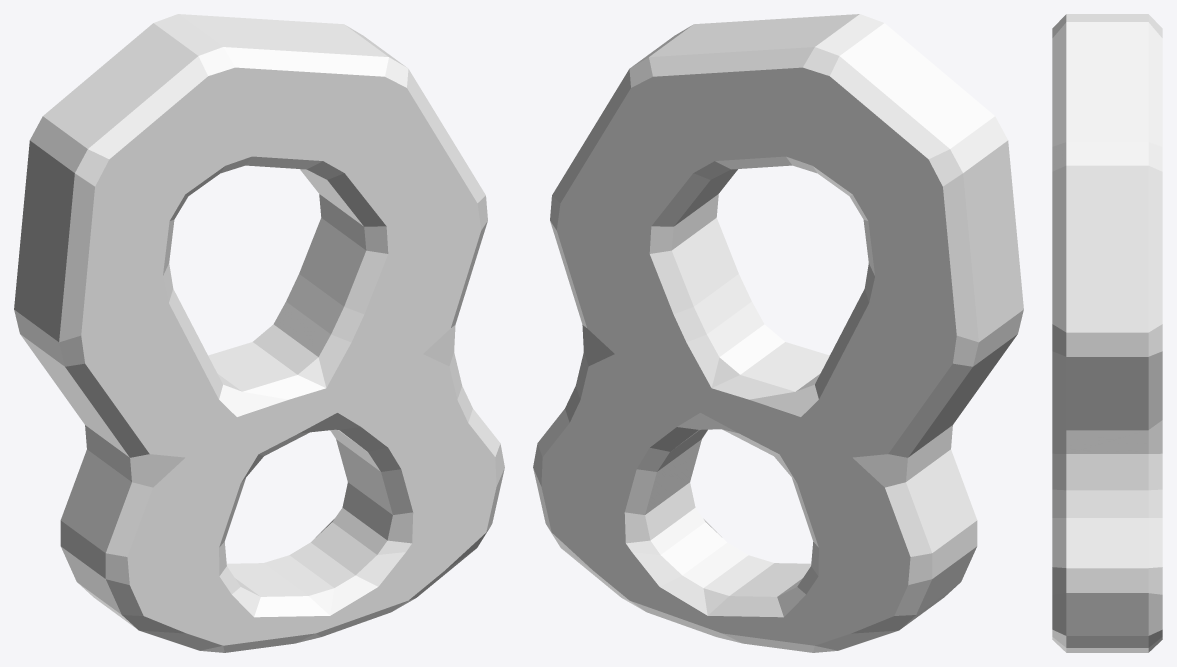
Rendered from eight.glb.
3 views of the same model, side by side, from view 1: azimuth 30°, elevation 25°; view 2: azimuth 150°, elevation 25°; view 3: azimuth 270°, elevation 25° (orthographic). The views are drawn at different scales.
Parts seen in each view (by area): view 1: Eight; view 2: Eight; view 3: Eight.
Part boxes in pixels (x1,y1,x2,y2): Eight: (14, 14, 504, 652); Eight: (533, 14, 1023, 652); Eight: (1052, 14, 1162, 652).
Bounding box in the file's own units: 0.1456 × 0.1916 × 0.0343.
Materials: 1 (1 with a texture image).
